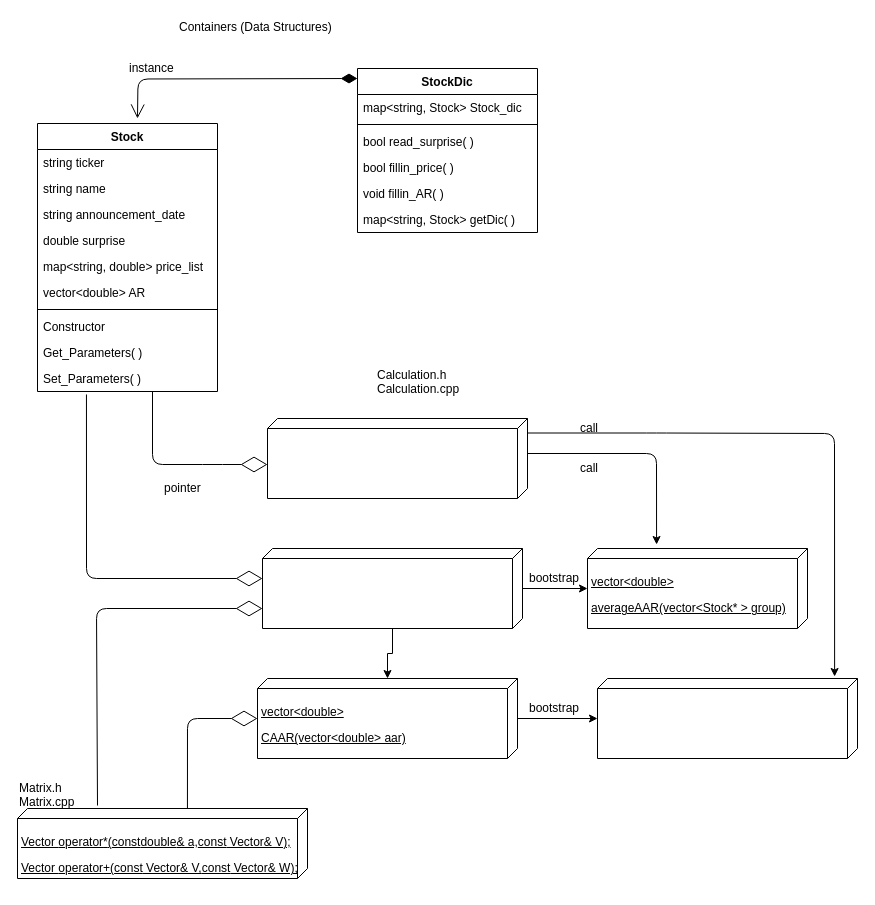
Image size: 875x905. Some labels were removed from this diagram. The shapes that lost their labels are listed below. From the top down, each one's centre as x and y in pixels, then its label:
At point (397, 458): "vector<Stock* > random_generator(vector<Stock* > group".
At point (392, 588): "vector<double> AAR(vector<Stock* > selected)".
At point (727, 718): "vector<double> averageCAAR(vector<Stock* > group)".
